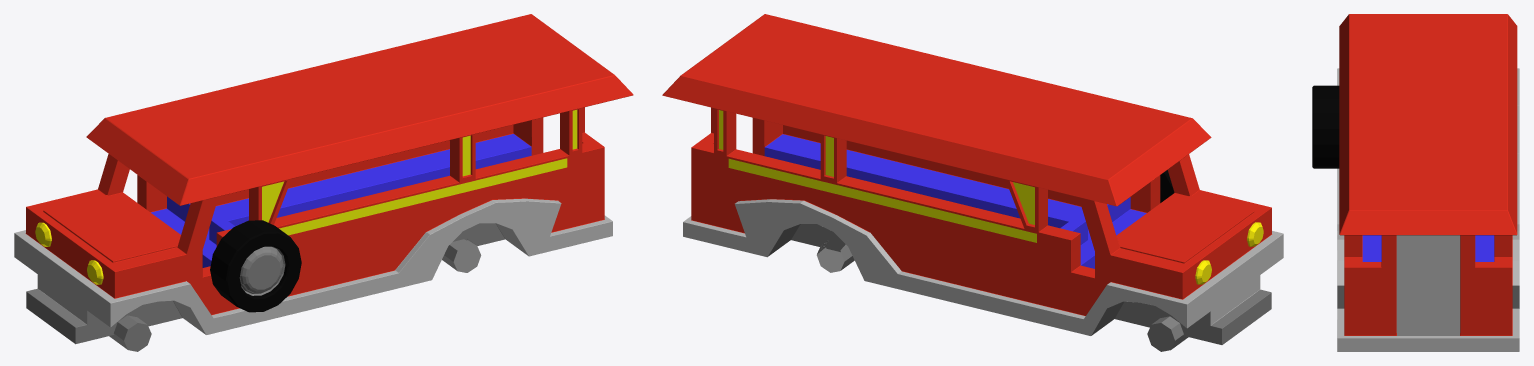
The model's file is Jeep_1.fbx.
3 views of the same model, side by side, from view 1: azimuth 30°, elevation 25°; view 2: azimuth 150°, elevation 25°; view 3: azimuth 270°, elevation 25° (orthographic). The views are drawn at different scales.
Parts seen in each view (by area): view 1: Cube.004; view 2: Cube.004; view 3: Cube.004.
Part boxes in pixels (x1,y1,x2,y2): Cube.004: (14, 14, 633, 351); Cube.004: (662, 14, 1283, 351); Cube.004: (1312, 14, 1519, 351).
Bounding box in the file's own units: 570 × 171 × 202.
